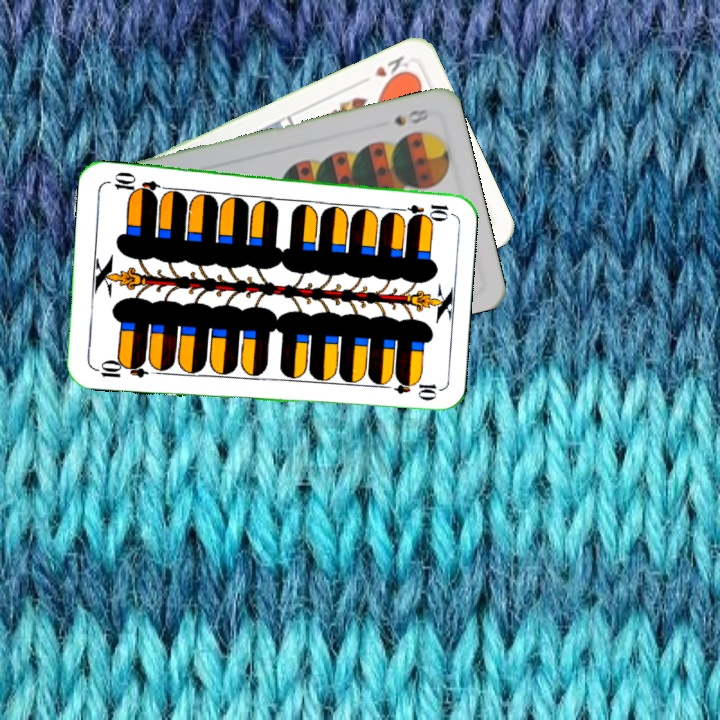E10: (90, 355, 149, 381), (392, 200, 451, 219)
HK: (370, 51, 413, 86)
S8: (389, 105, 431, 129)
